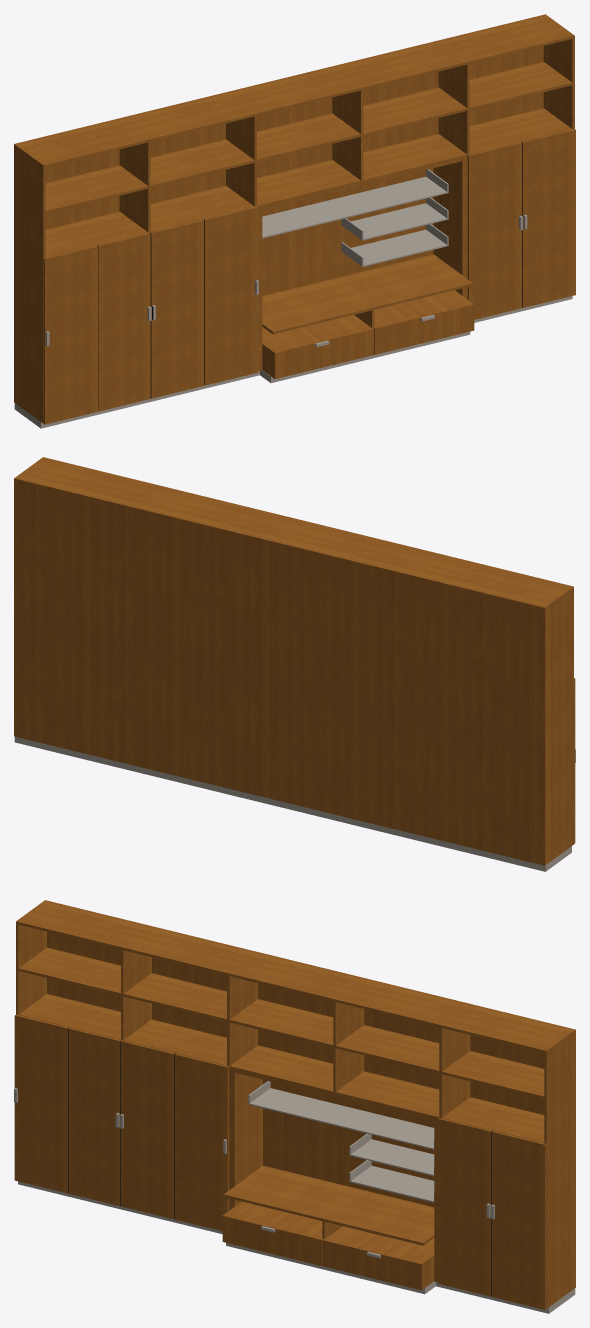
Rendered from schrankwand.FBX.
The picture shows the model from 3 angles, top to bottom: view 1: azimuth 30°, elevation 25°; view 2: azimuth 150°, elevation 25°; view 3: azimuth 330°, elevation 25°; orthographic projection.
Parts seen in each view (by area): view 1: wardrobe; view 2: wardrobe; view 3: wardrobe.
Boxes of the visible parts, x1,y1,x2,y2 form: wardrobe: (14,14,575,428); wardrobe: (14,457,575,871); wardrobe: (14,900,575,1313).
Size of the model in its own units: 284 by 135 by 39.88.
3 materials, 1 textured.
